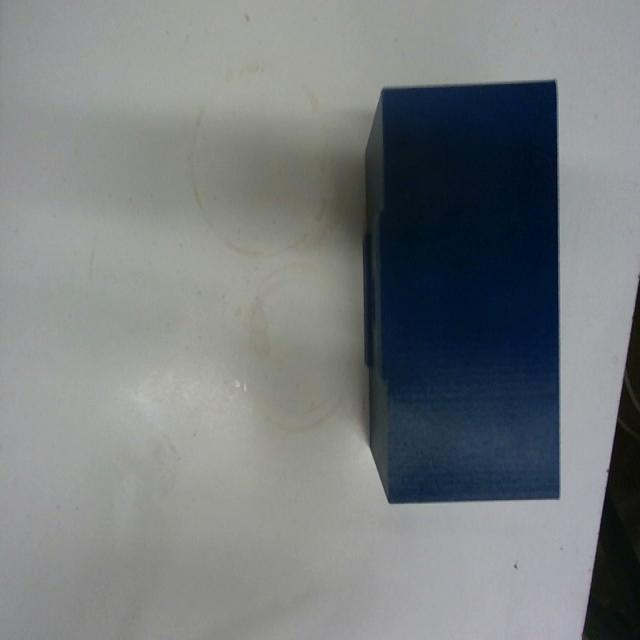Blue Cuboid: (359, 76, 562, 505)
